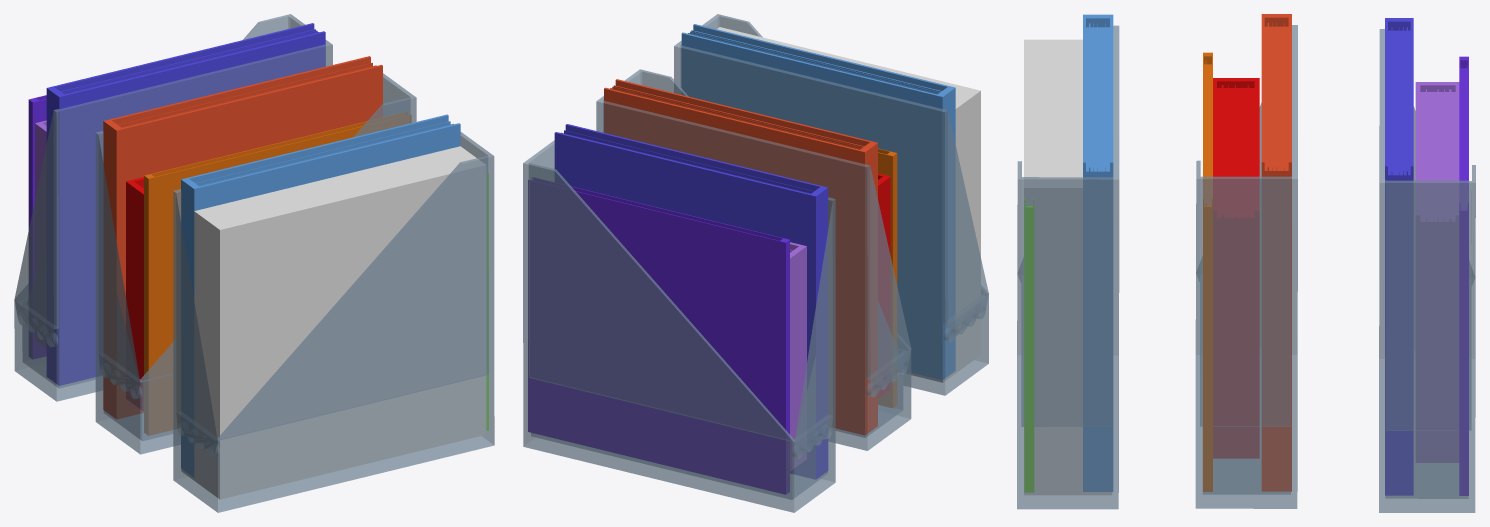
Rendered from folders.fbx.
3 renders of one model, left to right at view 1: azimuth 30°, elevation 25°; view 2: azimuth 150°, elevation 25°; view 3: azimuth 270°, elevation 25°, orthographic. The views are drawn at different scales.
Parts seen in each view (by area): view 1: Cube.001, Cube, Cube.009, Cube.010, Cube.006, Cube.005, Cube.002, Cube.008, Cube.007, Cube.012, Cube.011, Cube.004; view 2: Cube.012, Cube.009, Cube, Cube.002, Cube.005, Cube.006, Cube.010, Cube.001, Cube.011, Cube.008, Cube.007; view 3: Cube.005, Cube, Cube.009, Cube.001, Cube.007, Cube.011, Cube.002, Cube.006, Cube.010, Cube.008, Cube.012, Cube.004.
Part boxes in pixels (<box>): Cube.001: <box>181,146,486,499</box>; Cube: <box>173,132,494,512</box>; Cube.009: <box>14,14,332,401</box>; Cube.010: <box>46,23,325,385</box>; Cube.006: <box>103,56,382,419</box>; Cube.005: <box>95,73,416,454</box>; Cube.002: <box>181,114,460,477</box>; Cube.008: <box>144,112,411,435</box>; Cube.007: <box>126,177,143,411</box>; Cube.012: <box>28,95,46,358</box>; Cube.011: <box>35,120,46,348</box>; Cube.004: <box>486,173,488,430</box>; Cube.012: <box>528,177,789,494</box>; Cube.009: <box>523,140,835,512</box>; Cube: <box>674,14,988,395</box>; Cube.002: <box>681,24,955,380</box>; Cube.005: <box>596,69,911,450</box>; Cube.006: <box>604,79,877,435</box>; Cube.010: <box>554,124,828,479</box>; Cube.001: <box>717,27,980,382</box>; Cube.011: <box>790,242,806,470</box>; Cube.008: <box>878,148,897,407</box>; Cube.007: <box>878,173,890,398</box>; Cube.005: <box>1195,25,1297,508</box>; Cube: <box>1017,25,1119,509</box>; Cube.009: <box>1379,29,1475,512</box>; Cube.001: <box>1024,39,1112,495</box>; Cube.007: <box>1213,78,1259,458</box>; Cube.011: <box>1415,82,1459,462</box>; Cube.002: <box>1083,14,1113,491</box>; Cube.006: <box>1261,14,1291,491</box>; Cube.010: <box>1385,18,1413,495</box>; Cube.008: <box>1203,52,1212,491</box>; Cube.012: <box>1459,56,1468,495</box>; Cube.004: <box>1024,198,1034,492</box>.
Bounding box in the file's own units: 324 × 339 × 403.
